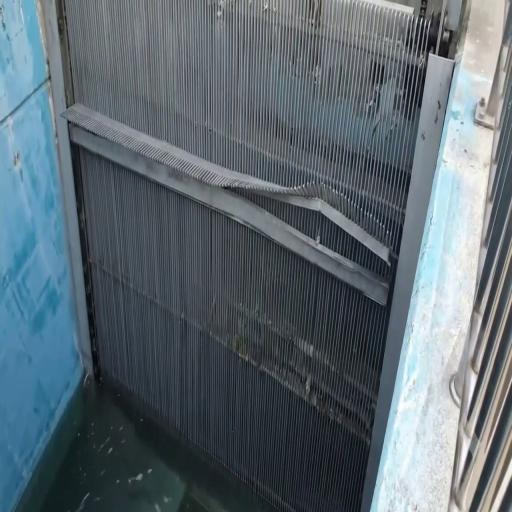rake: (59, 4, 455, 511)
rake_broken: (334, 205, 398, 273), (237, 190, 319, 230), (320, 175, 375, 231), (268, 168, 337, 206), (271, 202, 348, 234), (356, 200, 398, 258), (220, 174, 279, 204)
